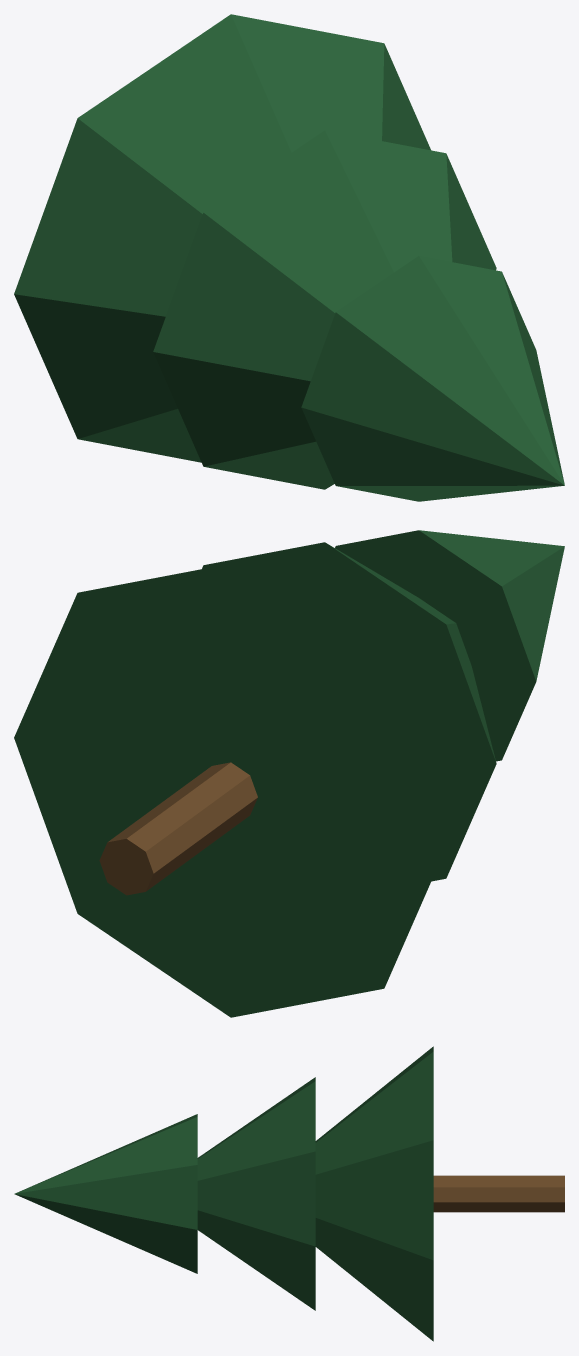
Rendered from tree_pine.obj.
3 views of the same model, one above another, from view 1: azimuth 30°, elevation 25°; view 2: azimuth 150°, elevation 25°; view 3: azimuth 270°, elevation 25° (orthographic). The views are drawn at different scales.
Visible parts, largest first — view 1: tree_pine_crown; view 2: tree_pine_crown, tree_pine_trunk; view 3: tree_pine_crown, tree_pine_trunk.
Part boxes in pixels (box(x1,y1,x2,y2)): tree_pine_crown: box(14, 14, 564, 501); tree_pine_crown: box(14, 530, 564, 1017); tree_pine_trunk: box(99, 762, 257, 895); tree_pine_crown: box(14, 1046, 433, 1341); tree_pine_trunk: box(433, 1175, 564, 1212).
Size of the model in its own units: 4.8 by 4.8 by 8.4.
